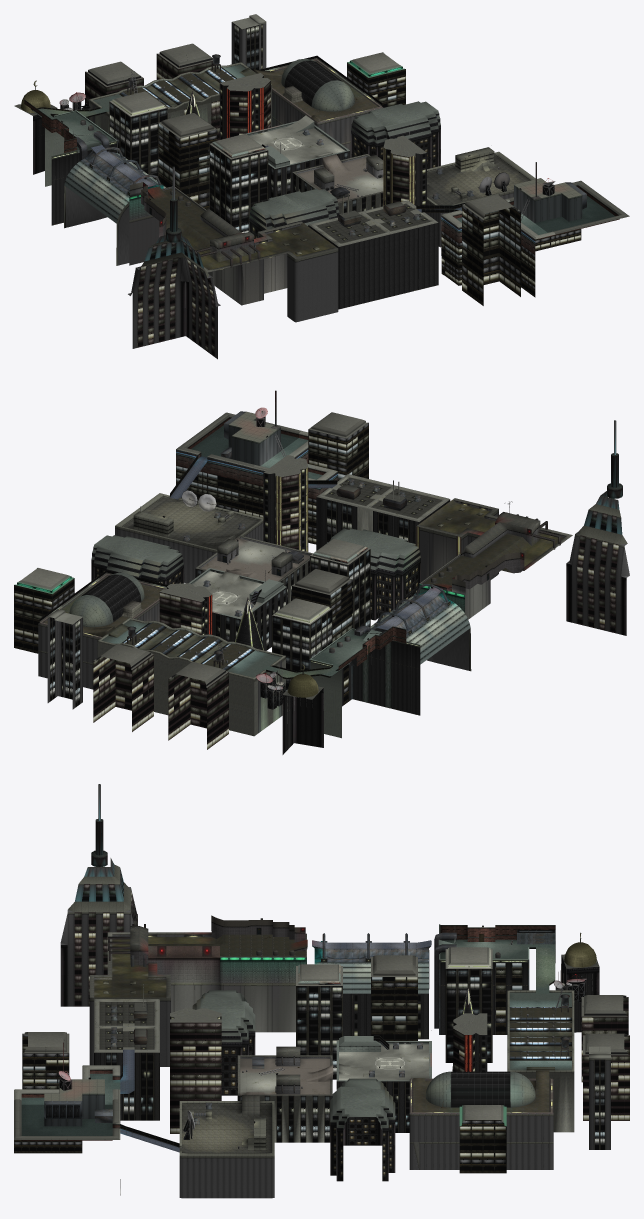
The model's file is rooftops.glb.
3 views of the same model, one above another, from view 1: azimuth 30°, elevation 25°; view 2: azimuth 150°, elevation 25°; view 3: azimuth 270°, elevation 25° (orthographic). The views are drawn at different scales.
Visible parts, largest first — view 1: roof.w.004, roof.w.000, roof.w.005, roof.w.001, roof.w.002, roof.w.006, roof.w.003, roof.w.008, roof.w.007; view 2: roof.w.004, roof.w.000, roof.w.005, roof.w.001, roof.w.006, roof.w.002, roof.w.003, roof.w.008, roof.w.007; view 3: roof.w.004, roof.w.000, roof.w.001, roof.w.005, roof.w.002, roof.w.006, roof.w.003, roof.w.008, roof.w.007.
Boxes of the visible parts, x1,y1,x2,y2 form: roof.w.004: (38, 22, 582, 359); roof.w.000: (14, 14, 629, 267); roof.w.005: (109, 24, 581, 305); roof.w.001: (20, 60, 581, 277); roof.w.002: (31, 61, 586, 269); roof.w.006: (45, 52, 466, 240); roof.w.003: (24, 54, 619, 254); roof.w.008: (33, 92, 440, 337); roof.w.007: (80, 103, 540, 254); roof.w.004: (38, 418, 629, 752); roof.w.000: (14, 390, 622, 709); roof.w.005: (14, 423, 408, 707); roof.w.001: (59, 411, 627, 697); roof.w.006: (17, 455, 470, 738); roof.w.002: (44, 411, 563, 679); roof.w.003: (127, 407, 616, 699); roof.w.008: (91, 541, 626, 754); roof.w.007: (222, 391, 489, 670); roof.w.004: (44, 858, 629, 1198); roof.w.000: (14, 784, 629, 1139); roof.w.001: (44, 864, 596, 1155); roof.w.005: (14, 962, 605, 1195); roof.w.002: (44, 915, 571, 1152); roof.w.006: (105, 924, 574, 1147); roof.w.003: (21, 784, 586, 1148); roof.w.008: (60, 945, 599, 1181); roof.w.007: (63, 925, 555, 1139).
Size of the model in its own units: 340 by 138 by 373.
Materials: 11 (10 with a texture image).
